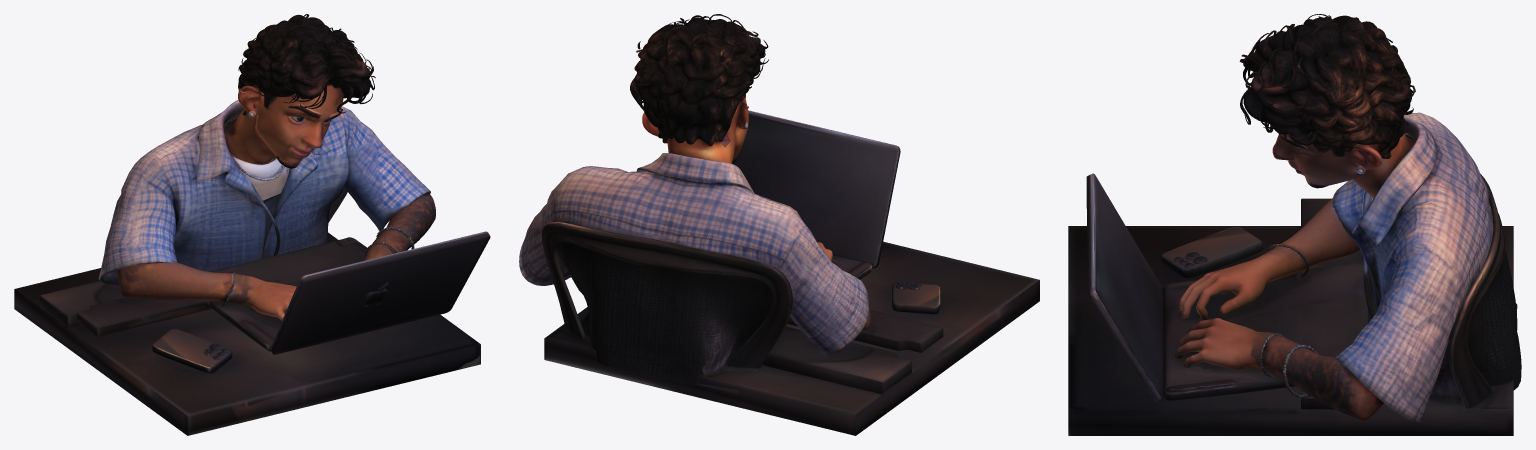
Rendered from Avatar-Daniel-optimized.glb.
The picture shows the model from 3 angles, left to right: view 1: azimuth 30°, elevation 25°; view 2: azimuth 150°, elevation 25°; view 3: azimuth 270°, elevation 25°; orthographic projection. The views are drawn at different scales.
Parts seen in each view (by area): view 1: tripo_node_b8646a6f-b740-4ebc-8a5e-b89bd1748a19; view 2: tripo_node_b8646a6f-b740-4ebc-8a5e-b89bd1748a19; view 3: tripo_node_b8646a6f-b740-4ebc-8a5e-b89bd1748a19.
Boxes of the visible parts, bbox=[...] form: tripo_node_b8646a6f-b740-4ebc-8a5e-b89bd1748a19: bbox=[14, 14, 490, 435]; tripo_node_b8646a6f-b740-4ebc-8a5e-b89bd1748a19: bbox=[519, 14, 1039, 435]; tripo_node_b8646a6f-b740-4ebc-8a5e-b89bd1748a19: bbox=[1068, 14, 1521, 435].
Size of the model in its own units: 0.9995 by 0.7505 by 0.8423.
Materials: 1 (1 with a texture image).
